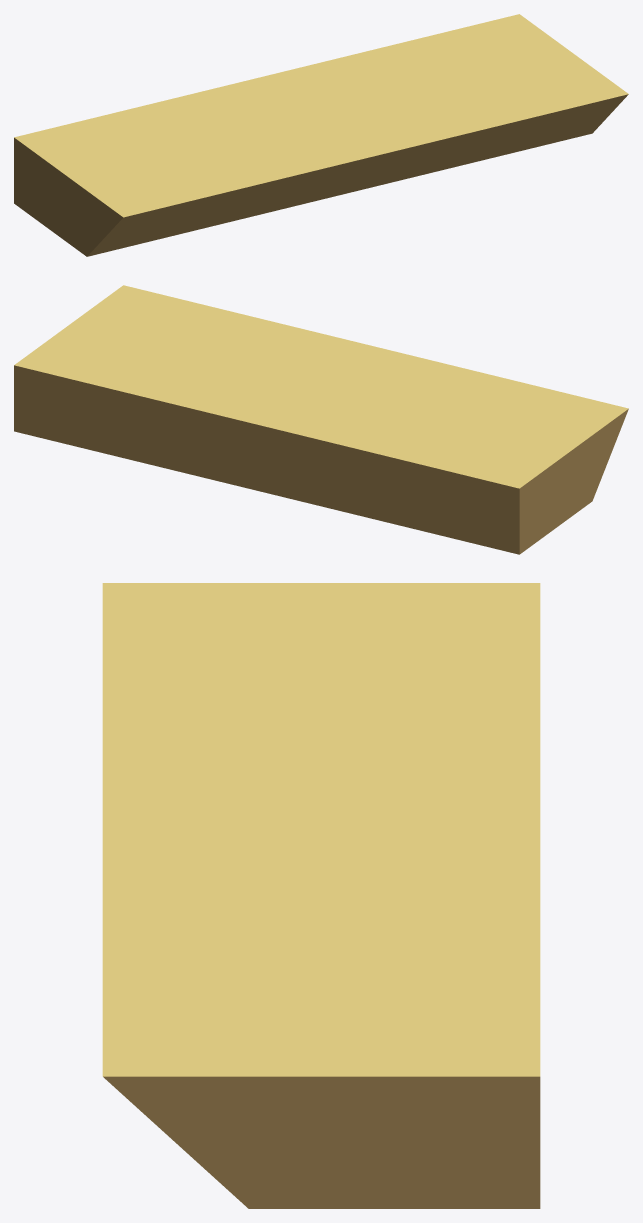
File: Terrain_Tile_Sand_Ledge_02.fbx
The picture shows the model from 3 angles, top to bottom: view 1: azimuth 30°, elevation 25°; view 2: azimuth 150°, elevation 25°; view 3: azimuth 270°, elevation 25°; orthographic projection. The views are drawn at different scales.
Visible parts, largest first — view 1: Model; view 2: Model; view 3: Model.
Part boxes in pixels (box(x1,y1,x2,y2)): Model: box(14, 14, 628, 256); Model: box(14, 285, 628, 554); Model: box(102, 583, 540, 1208).
Bounding box in the file's own units: 2000 × 250 × 750.
